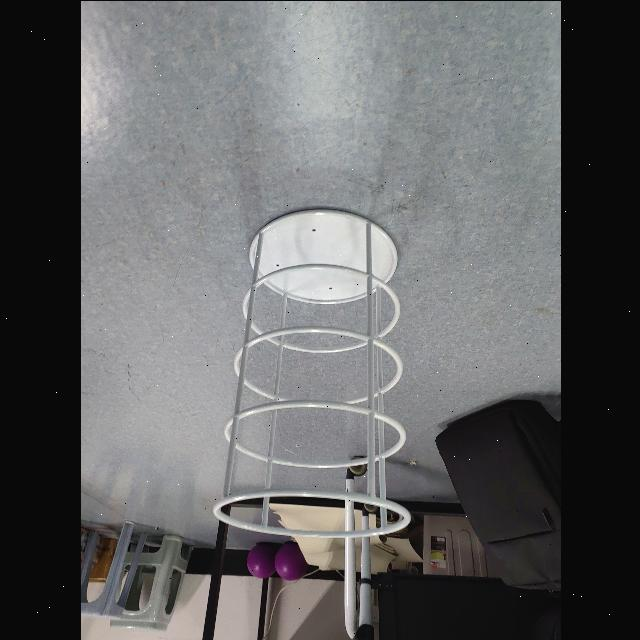S: (207, 200, 415, 538)
